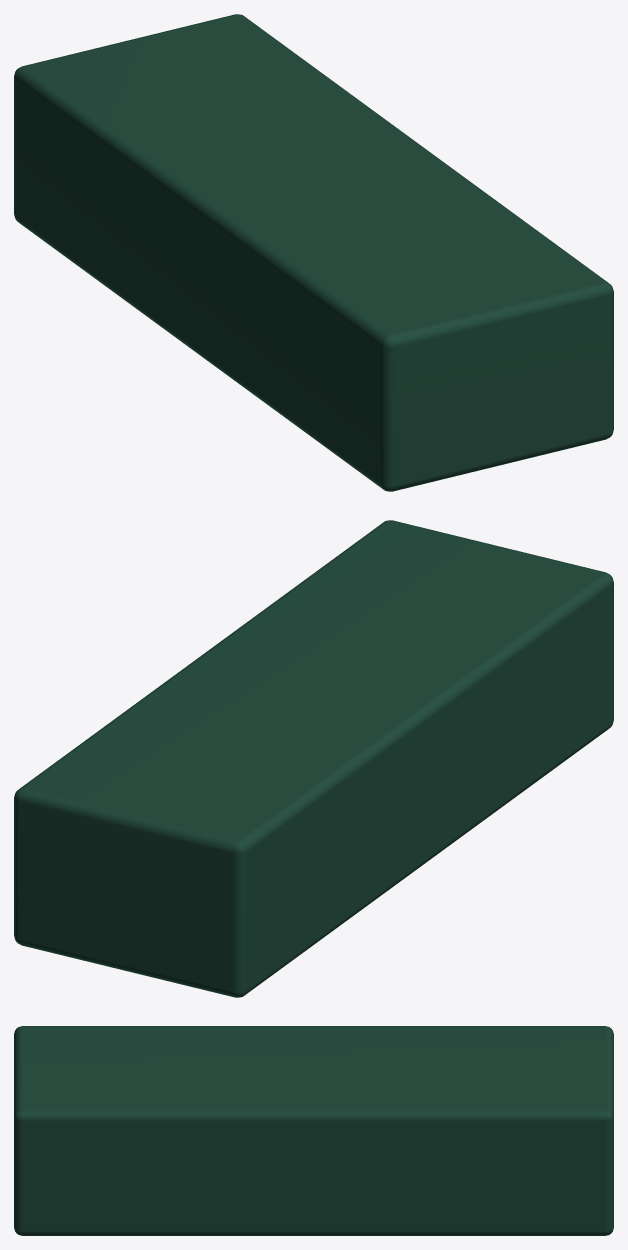
File: SM_EG_Checkout_base_0ad0db34e7.fbx
3 renders of one model, top to bottom at view 1: azimuth 30°, elevation 25°; view 2: azimuth 150°, elevation 25°; view 3: azimuth 270°, elevation 25°, orthographic. The views are drawn at different scales.
Visible parts, largest first — view 1: SM_EG_Checkout_base_0ad0db34e7; view 2: SM_EG_Checkout_base_0ad0db34e7; view 3: SM_EG_Checkout_base_0ad0db34e7.
Boxes of the visible parts, box(x1,y1,x2,y2) form: SM_EG_Checkout_base_0ad0db34e7: box(14, 14, 613, 491); SM_EG_Checkout_base_0ad0db34e7: box(14, 520, 613, 997); SM_EG_Checkout_base_0ad0db34e7: box(14, 1026, 613, 1235).
Size of what is drawn, in the model's own units: 155 by 435 by 100.
